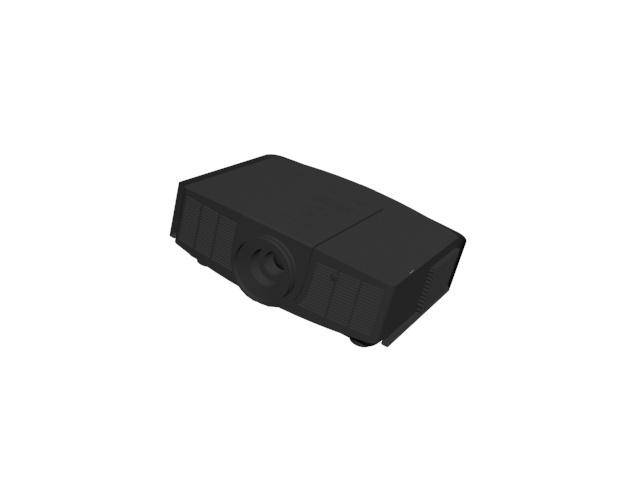projector: (169, 153, 472, 352)
